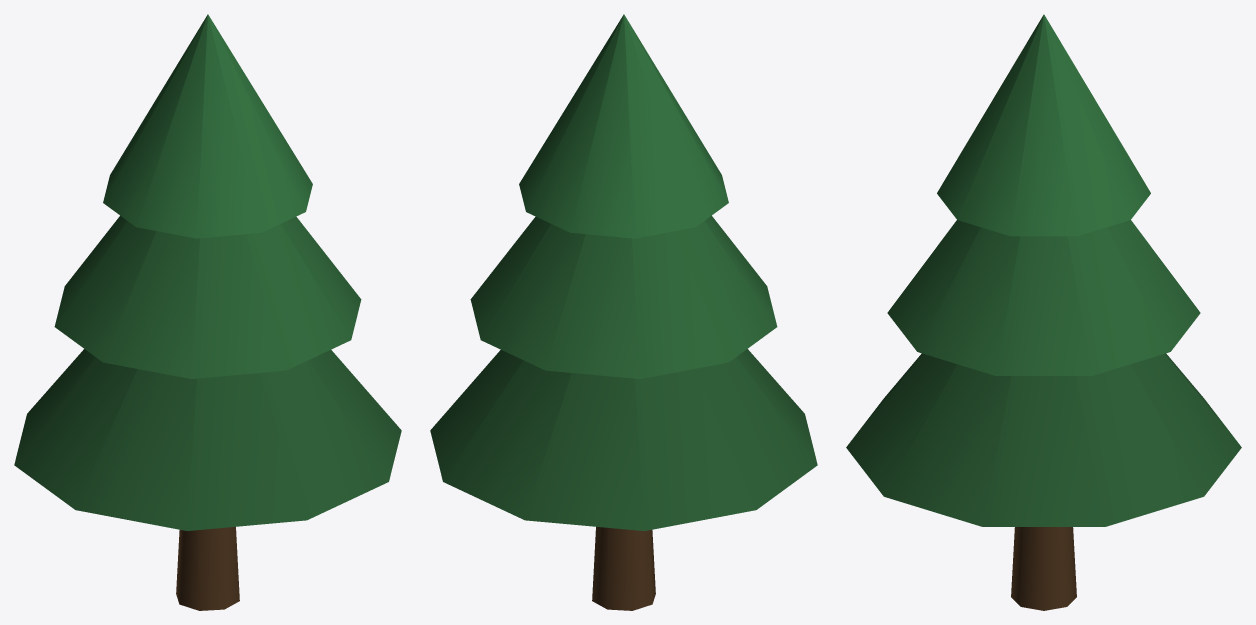
Rendered from pine.glb.
The picture shows the model from 3 angles, left to right: view 1: azimuth 30°, elevation 25°; view 2: azimuth 150°, elevation 25°; view 3: azimuth 270°, elevation 25°; orthographic projection.
Parts seen in each view (by area): view 1: pine; view 2: pine; view 3: pine.
Boxes of the visible parts, left/top/right/bottom form: pine: left=14, top=14, right=401, bottom=610; pine: left=430, top=14, right=817, bottom=610; pine: left=846, top=14, right=1241, bottom=610.
Size of the model in its own units: 2.28 by 3.9 by 2.4.
